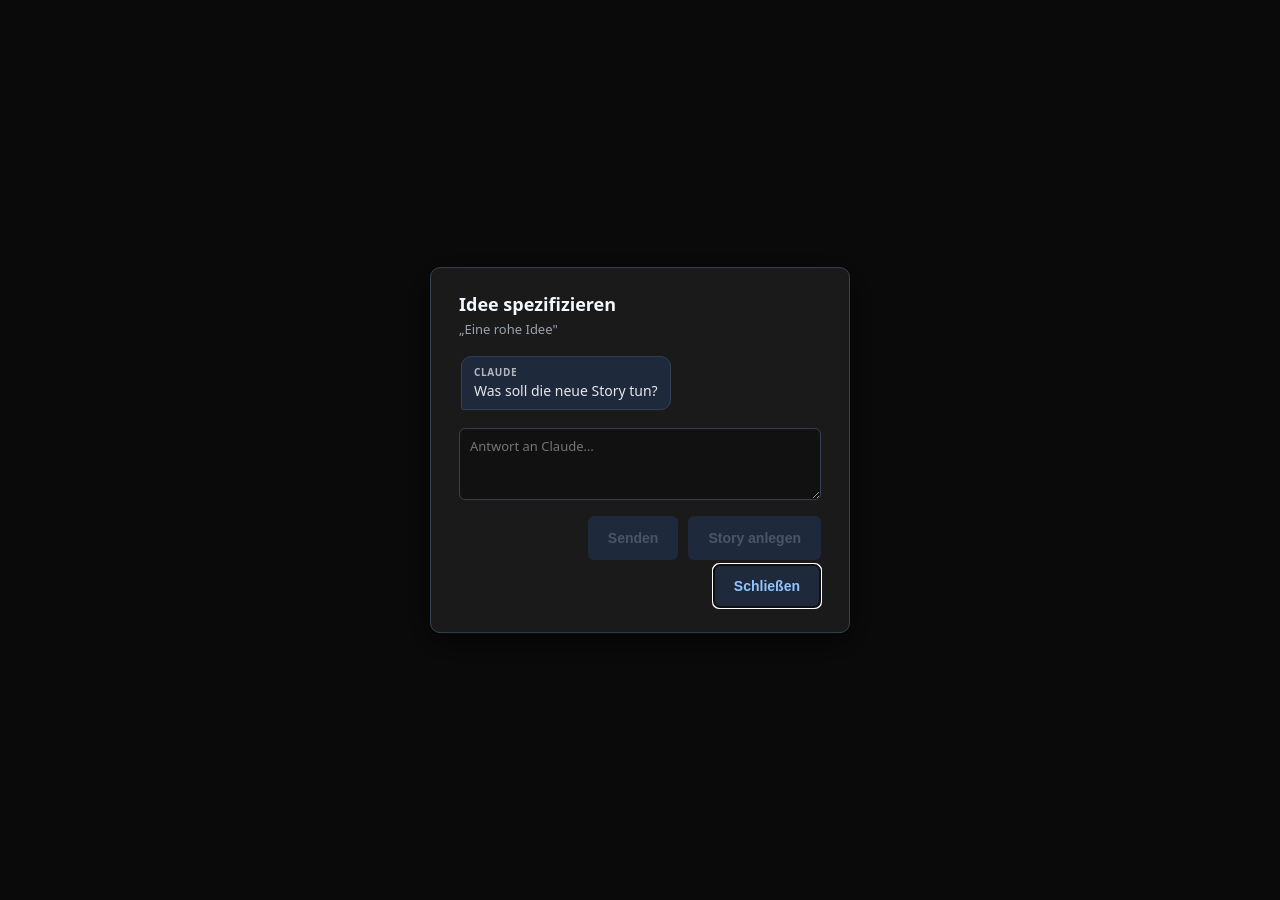
Test case: IdeaSpecifyChatModal — AC11: Finalize-Start-Fehlschlag (non-202) hält das Overlay offen › a 409 lock response shows an inline error, keeps the modal open, and allows a retry (button re-enabled)
expect the element with test id "idea-specify-message-list" is shown: met, box [461,356,671,410]
Step 1. Type "Das ist alles." into the text box with test id "idea-specify-input" → (640, 464), box [459,428,821,500]
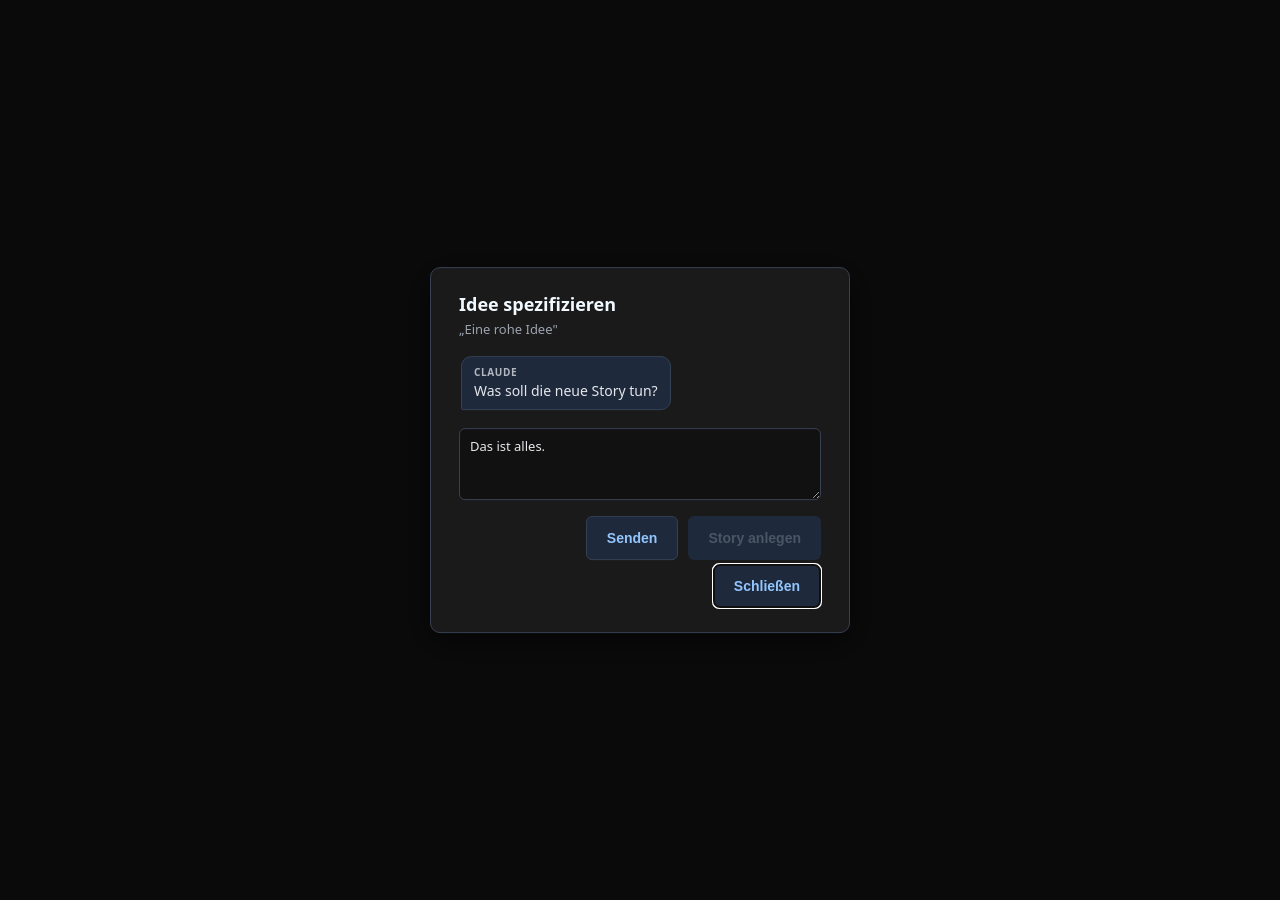
Step 2. Click the button with test id "idea-specify-send-btn" → (632, 538), box [586,516,678,560]
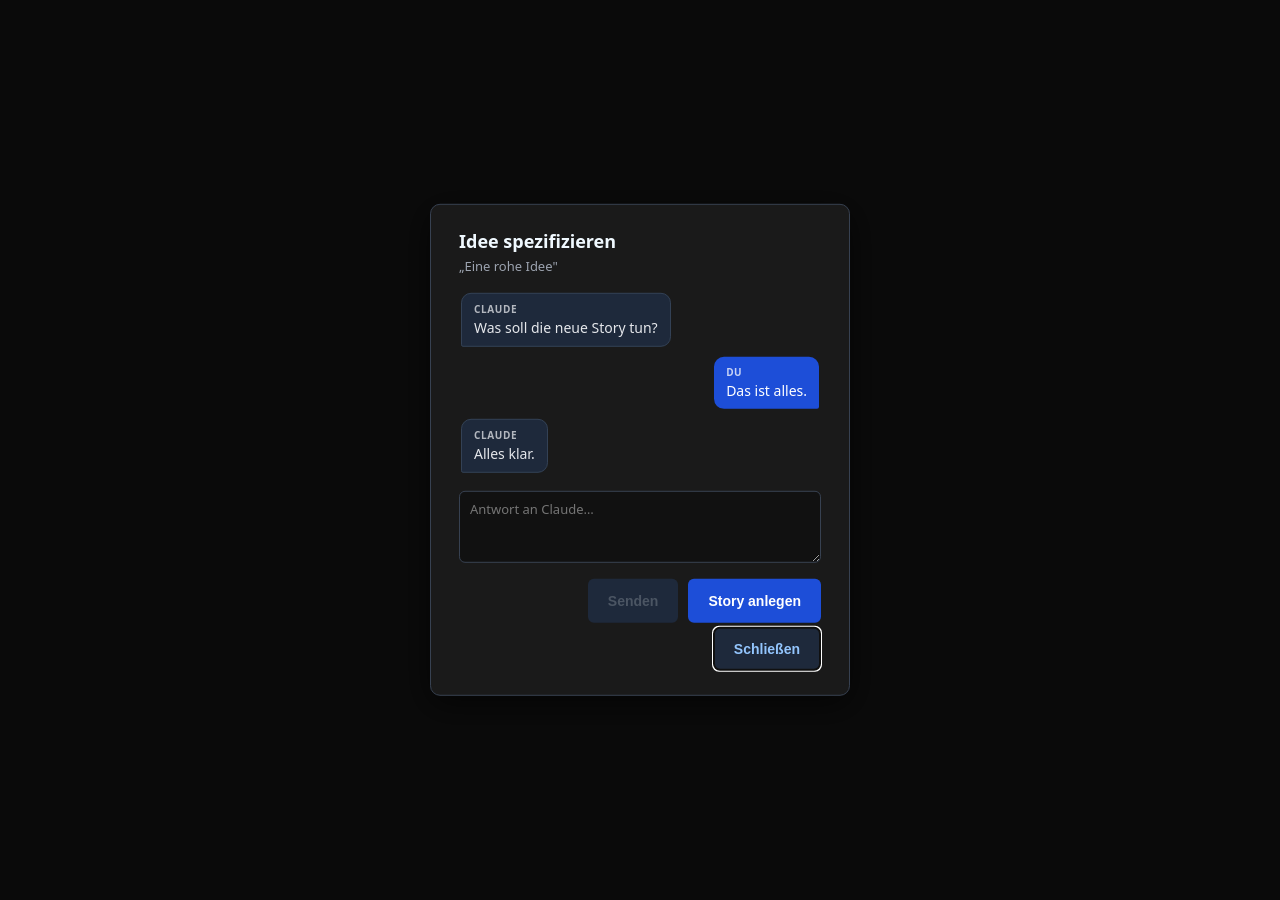
expect the button with test id "idea-specify-finalize-btn" is enabled: met
Step 3. Click the button with test id "idea-specify-finalize-btn" → (755, 601), box [688,579,821,623]
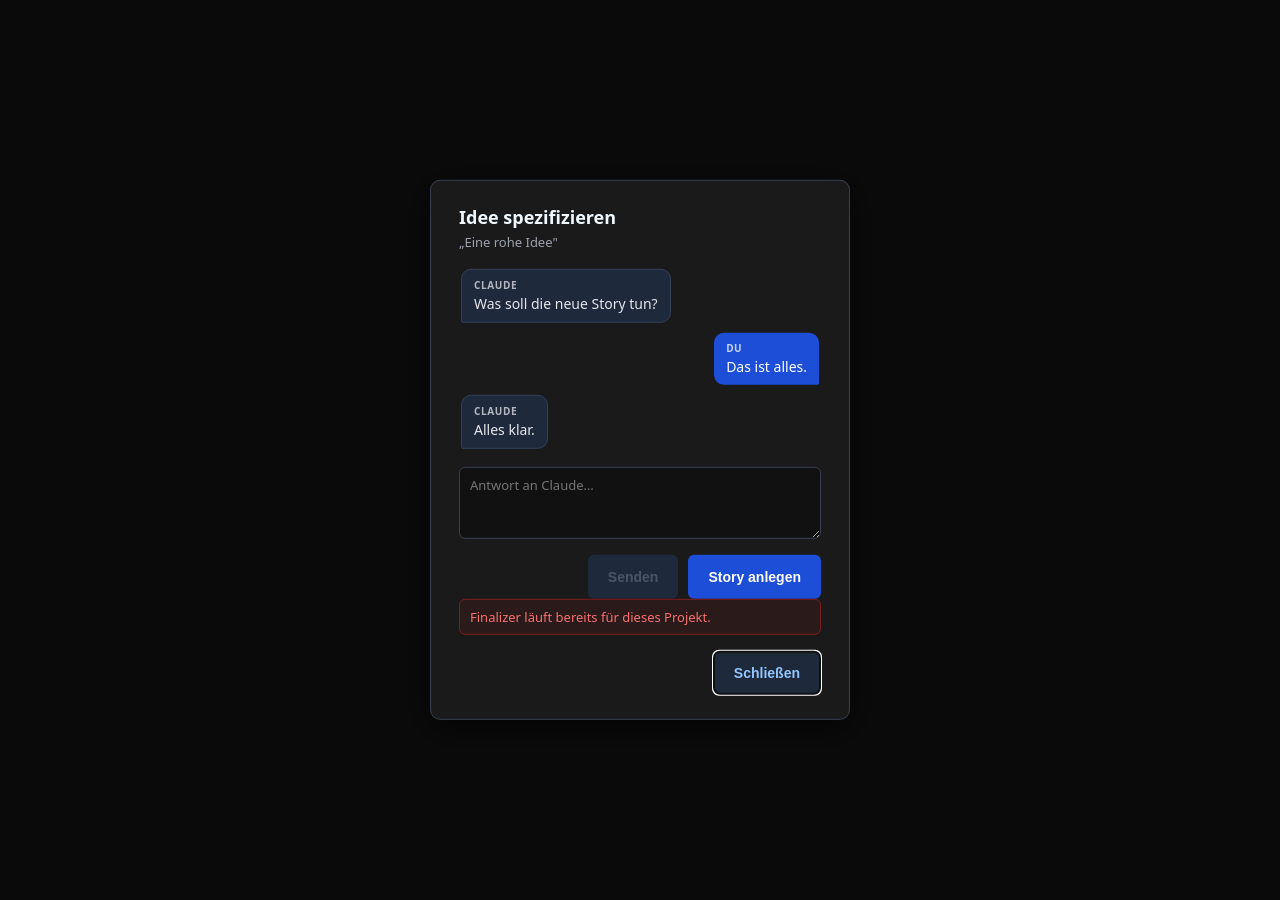
expect the button with test id "idea-specify-finalize-btn" is enabled: met, box [688,555,821,599]
expect the message "Finalizer läuft bereits für dieses Projekt." is shown: met, box [459,599,821,635]
expect the message with test id "idea-specify-finalize-error" shows "Finalizer läuft bereits": met, box [470,608,711,626]
